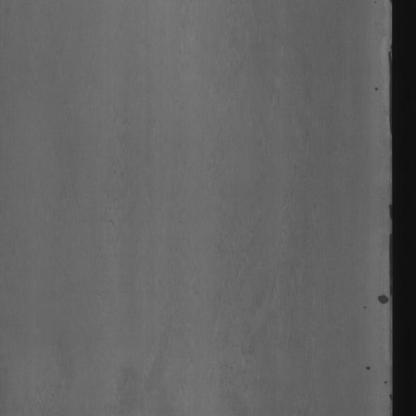oil_spot: (384, 202, 393, 290), (376, 284, 392, 315), (388, 49, 393, 141)
